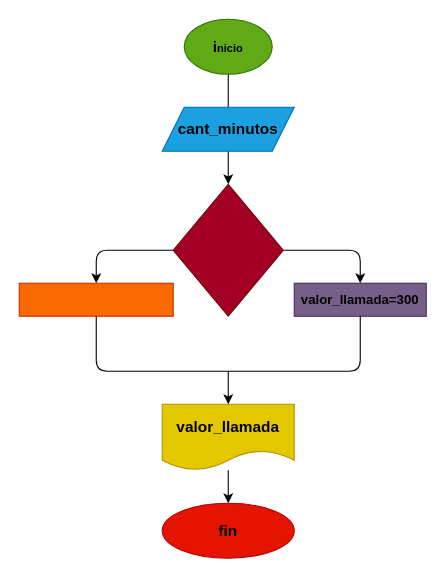
Image size: 446x578. Some labels were removed from this diagram. The box of each missing label's shape, as (x1, y1, x2, y2) in pixels:
cant_minutos <=3: (172, 183, 283, 316)
valor_llamada=300+50*(cant_minutos)-3: (18, 282, 173, 316)
